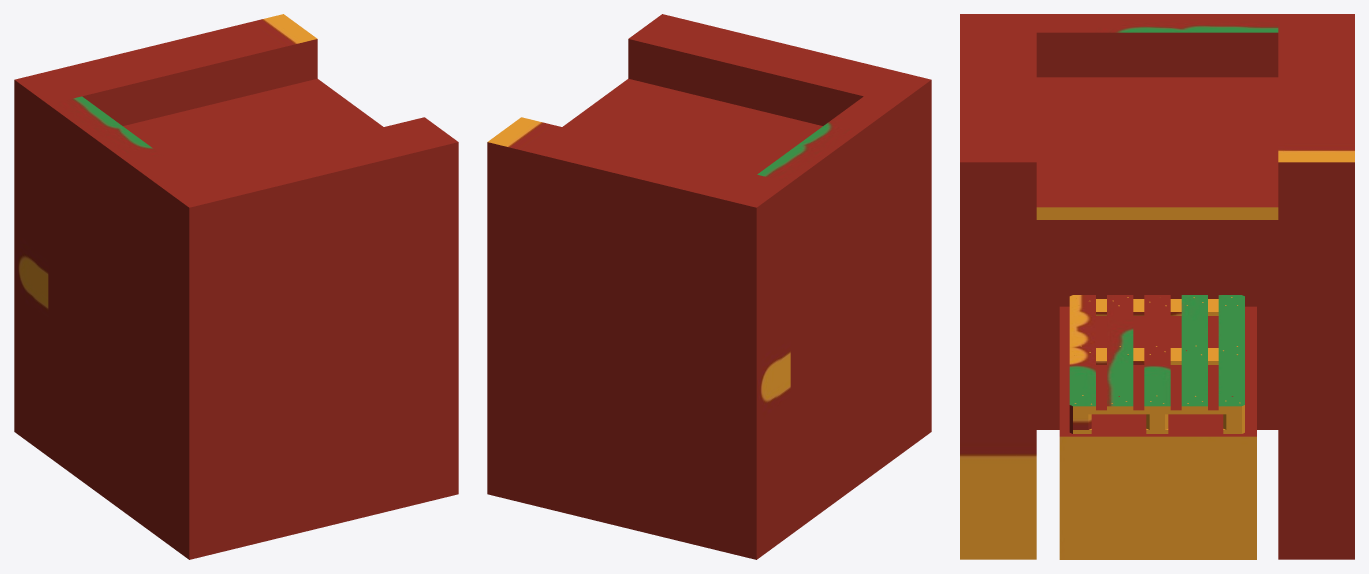
The model's file is usecase2_meshed_1strato.dae.
3 views of the same model, side by side, from view 1: azimuth 30°, elevation 25°; view 2: azimuth 150°, elevation 25°; view 3: azimuth 270°, elevation 25° (orthographic). The views are drawn at different scales.
Visible parts, largest first — view 1: usecase2_meshed_1strato; view 2: usecase2_meshed_1strato; view 3: usecase2_meshed_1strato.
Part boxes in pixels (left/top/right/bottom): usecase2_meshed_1strato: left=14, top=14, right=458, bottom=559; usecase2_meshed_1strato: left=487, top=14, right=931, bottom=559; usecase2_meshed_1strato: left=960, top=14, right=1354, bottom=559.
Size of the model in its own units: 1.6 by 1.8 by 2.
